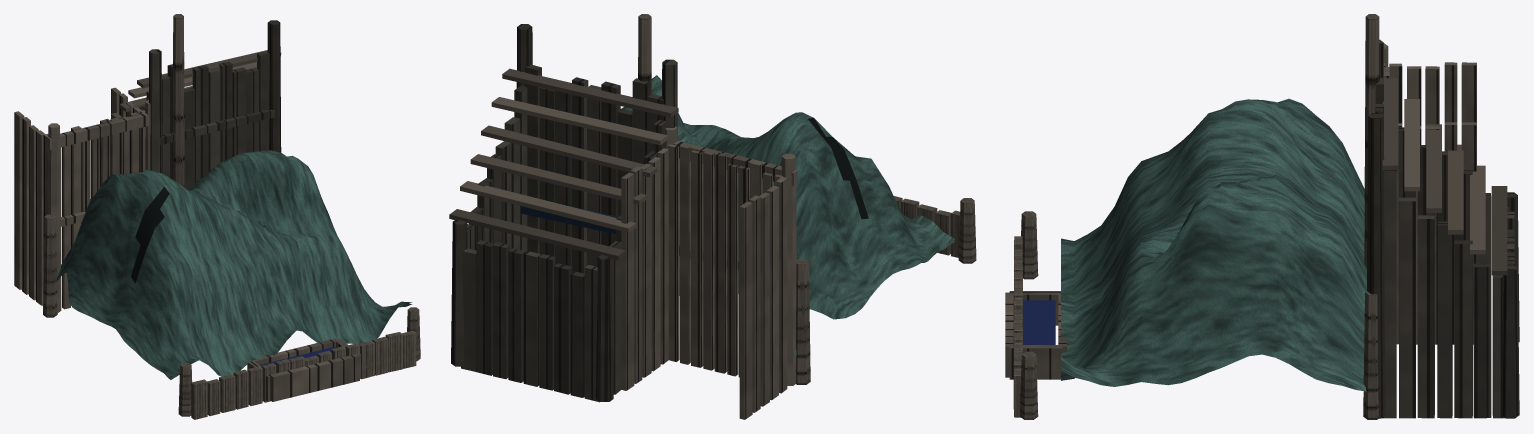
File: TarHut01.glb
3 renders of one model, left to right at view 1: azimuth 30°, elevation 25°; view 2: azimuth 150°, elevation 25°; view 3: azimuth 270°, elevation 25°, orthographic. The views are drawn at different scales.
Visible parts, largest first — view 1: TarHut01; view 2: TarHut01; view 3: TarHut01.
Boxes of the visible parts, box(x1,y1,x2,y2) form: TarHut01: box(14, 14, 420, 419); TarHut01: box(449, 14, 976, 419); TarHut01: box(1005, 14, 1519, 419).
Size of the model in its own units: 5.22 by 5.32 by 7.27.
12 materials, 3 textured.
